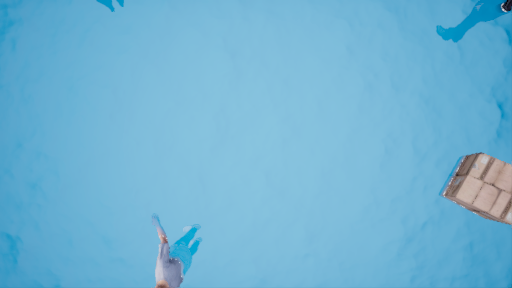person: (148, 213, 210, 288)
